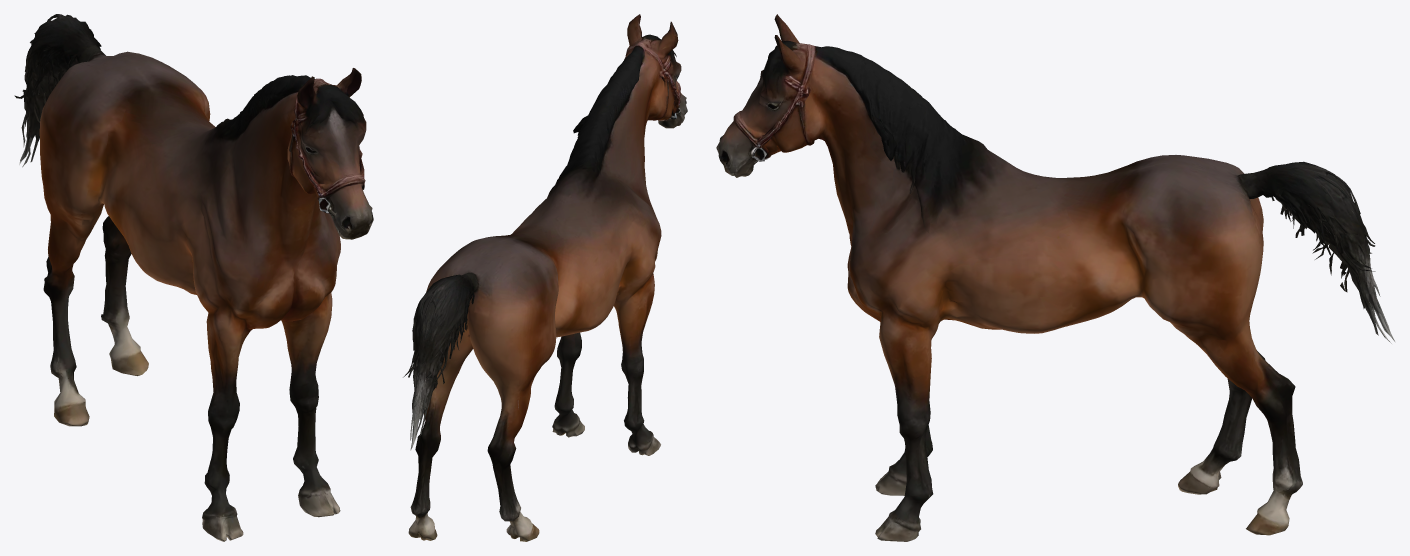
Rendered from horse.glb.
The picture shows the model from 3 angles, left to right: view 1: azimuth 30°, elevation 25°; view 2: azimuth 150°, elevation 25°; view 3: azimuth 270°, elevation 25°; orthographic projection. The views are drawn at different scales.
Visible parts, largest first — view 1: tripo_node_7baddc5f-938a-4f99-a113-57129e753f7a; view 2: tripo_node_7baddc5f-938a-4f99-a113-57129e753f7a; view 3: tripo_node_7baddc5f-938a-4f99-a113-57129e753f7a.
Boxes of the visible parts, bbox=[...] form: tripo_node_7baddc5f-938a-4f99-a113-57129e753f7a: bbox=[14, 14, 373, 541]; tripo_node_7baddc5f-938a-4f99-a113-57129e753f7a: bbox=[403, 14, 687, 541]; tripo_node_7baddc5f-938a-4f99-a113-57129e753f7a: bbox=[716, 14, 1394, 541].
Bounding box in the file's own units: 0.2335 × 0.7941 × 1.
1 material, 1 textured.
